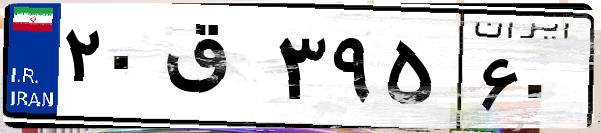0: (525, 38, 570, 115), (110, 28, 158, 98)
2: (57, 26, 110, 100)
3: (270, 28, 330, 110)
5: (385, 28, 445, 110)
6: (475, 38, 525, 113)
9: (330, 28, 385, 110)
ق: (158, 20, 270, 120)
